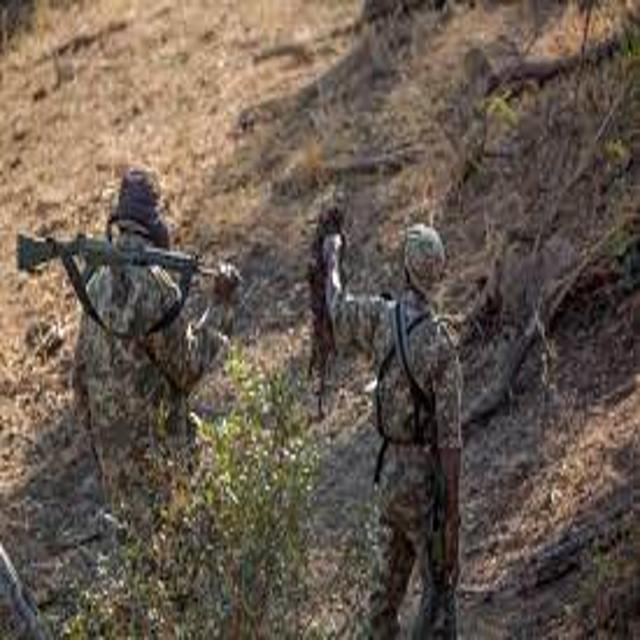gun: (4, 209, 259, 337)
ranger: (267, 173, 523, 639), (16, 139, 269, 537)
